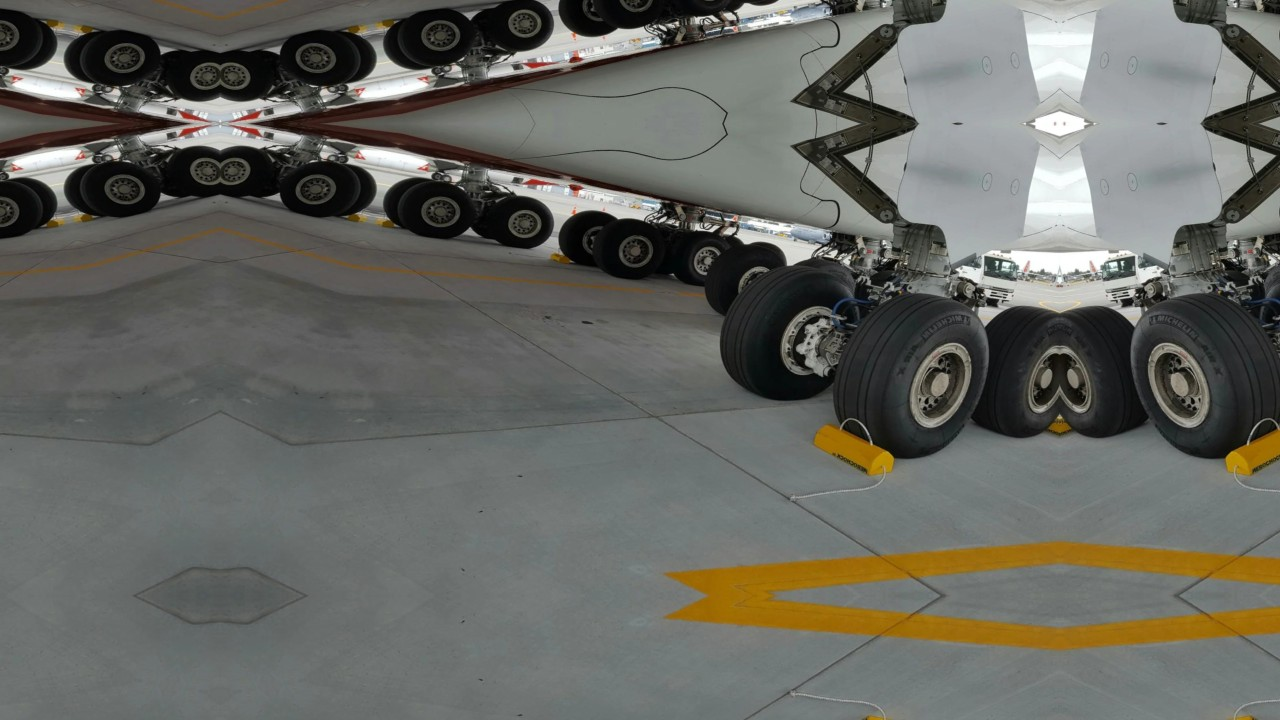chock: (806, 415, 906, 485), (1214, 415, 1280, 485), (1010, 403, 1060, 447), (1060, 403, 1110, 447), (806, 707, 906, 720), (1214, 707, 1280, 720), (544, 250, 575, 268), (71, 21, 97, 37), (41, 16, 67, 32), (343, 21, 369, 37), (373, 16, 399, 32), (71, 210, 97, 226), (41, 215, 67, 231), (343, 210, 369, 226), (373, 215, 399, 231)
wheel: (813, 270, 1013, 477), (1107, 270, 1280, 477), (708, 243, 874, 419), (953, 291, 1060, 452), (1060, 291, 1167, 452), (698, 229, 795, 327), (68, 20, 172, 97), (268, 20, 372, 97), (68, 150, 172, 227), (268, 150, 372, 227), (386, 171, 487, 248), (386, 0, 487, 76), (587, 209, 673, 288), (475, 186, 563, 257), (1246, 243, 1280, 419), (475, 0, 563, 61), (549, 201, 621, 272), (664, 223, 734, 293), (154, 42, 220, 111), (220, 42, 286, 111), (154, 136, 220, 205), (220, 136, 286, 205), (0, 171, 54, 248), (0, 0, 54, 76), (54, 26, 119, 88), (321, 26, 386, 88), (54, 159, 119, 221), (321, 159, 386, 221), (2, 16, 65, 78), (375, 16, 438, 78), (2, 169, 65, 231), (375, 169, 438, 231), (549, 0, 621, 46), (587, 0, 673, 38), (789, 249, 859, 292), (644, 220, 693, 280), (698, 0, 795, 18), (664, 0, 734, 24), (741, 236, 791, 268), (644, 0, 693, 27), (1261, 249, 1280, 292), (741, 0, 791, 11)
